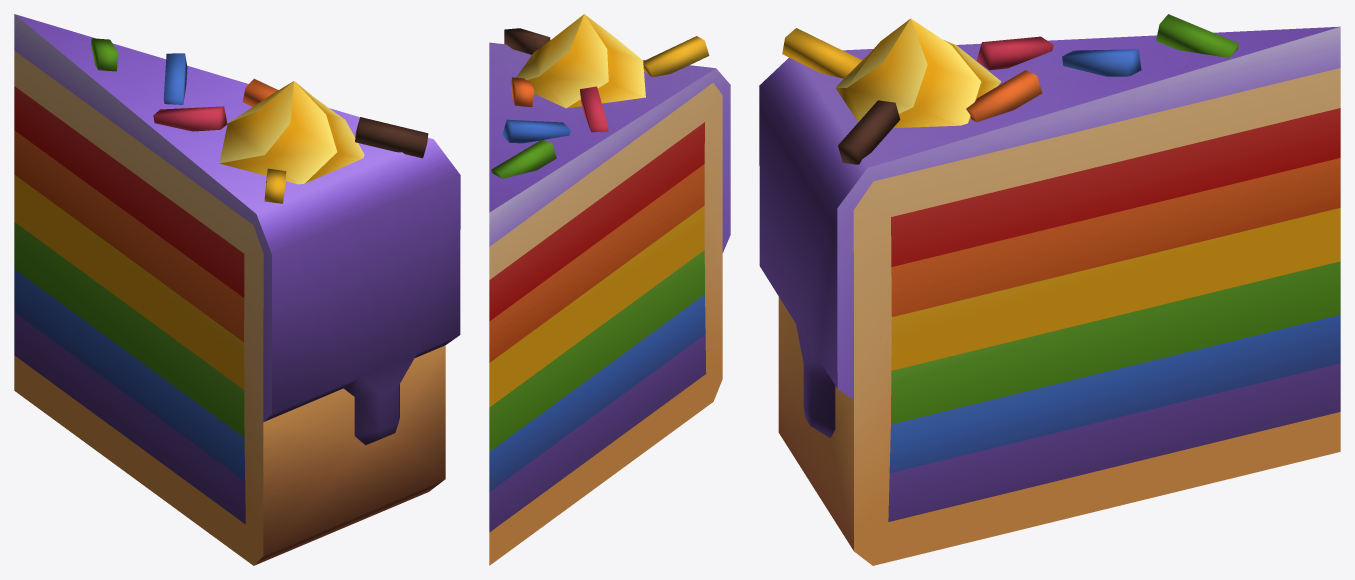
File: m_RainbowCake02_Slice03.fbx
3 views of the same model, side by side, from view 1: azimuth 30°, elevation 25°; view 2: azimuth 150°, elevation 25°; view 3: azimuth 270°, elevation 25° (orthographic). The views are drawn at different scales.
Parts seen in each view (by area): view 1: m_RainbowCake02_Slice03; view 2: m_RainbowCake02_Slice03; view 3: m_RainbowCake02_Slice03.
Boxes of the visible parts, <box> form: m_RainbowCake02_Slice03: <box>14,14,460,565</box>; m_RainbowCake02_Slice03: <box>489,14,730,565</box>; m_RainbowCake02_Slice03: <box>759,14,1340,565</box>.
Size of the model in its own units: 7.24 by 13.27 by 14.48.
